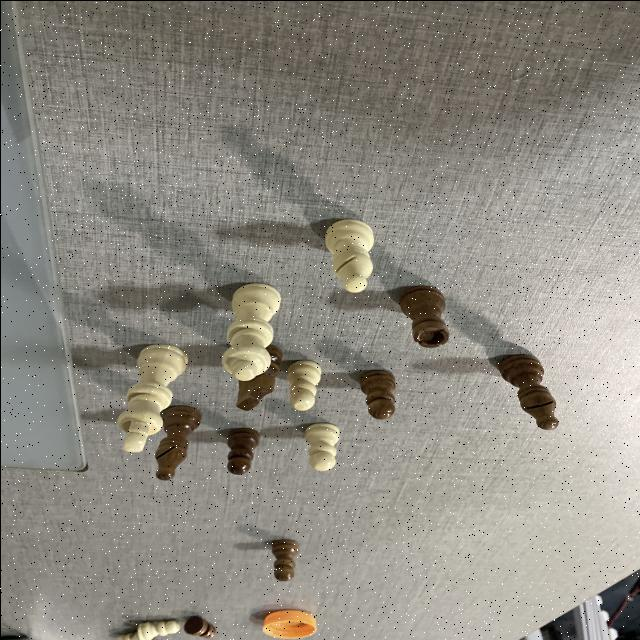Black-Bishop: (496, 352, 560, 431), (149, 404, 201, 479)
Black-Knight: (230, 345, 282, 411)
Black-Pawn: (356, 367, 397, 419), (221, 425, 259, 475), (271, 538, 299, 582)
Black-Rook: (394, 284, 448, 348)
White-Bishop: (319, 214, 377, 294)
White-King: (111, 342, 189, 452)
White-Pawn: (284, 358, 322, 412), (301, 421, 339, 472)
White-Queen: (217, 282, 282, 379)
